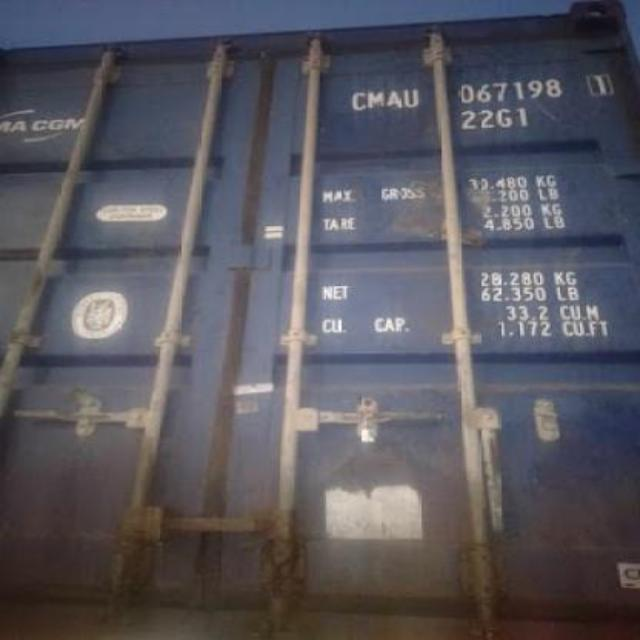0: (454, 77, 474, 106)
1: (582, 70, 616, 100), (510, 74, 528, 102)
6: (474, 75, 490, 108)
7: (490, 73, 510, 105)
8: (542, 72, 562, 106)
9: (528, 70, 544, 108)
A: (386, 83, 399, 115)
C: (348, 86, 366, 112)
M: (366, 84, 386, 116)
U: (400, 78, 416, 118)
